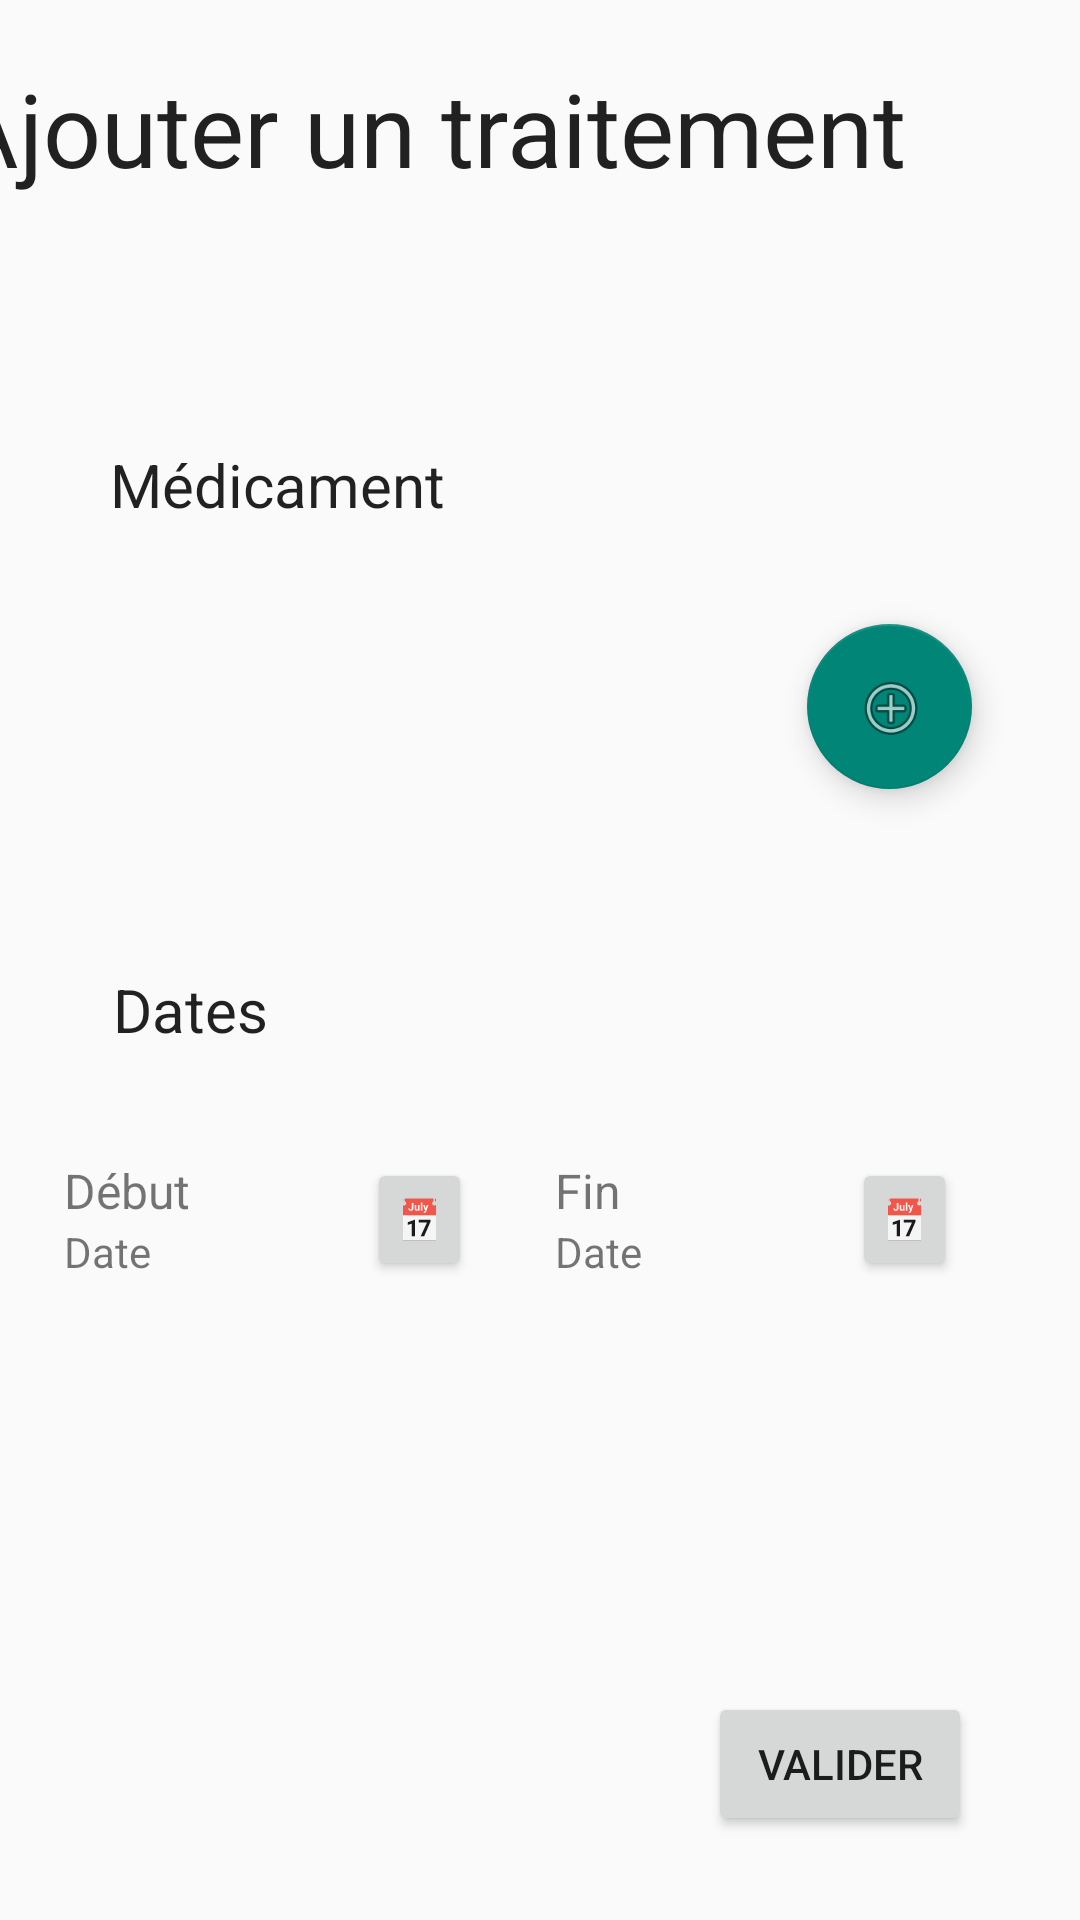

Where icons sit on this 1080x1920 app screen, as Rect(x1, y1, x2, y2):
add: Rect(807, 624, 972, 789)
